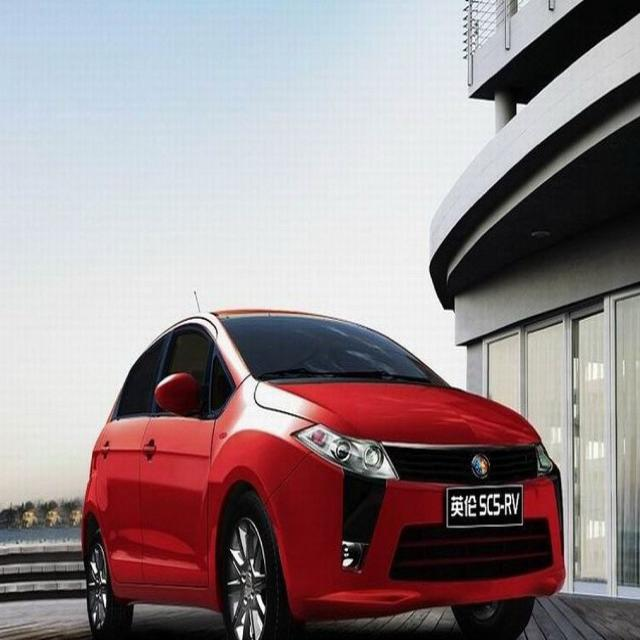door: (102, 323, 170, 581)
front_bumper: (264, 449, 566, 617)
front_glass: (218, 312, 448, 389)
front_right_side_door: (138, 312, 220, 595)
front_right_side_light: (292, 420, 399, 484)
front_right_side_mirror: (155, 372, 205, 420)
wheel: (226, 499, 288, 640), (86, 525, 132, 637)
